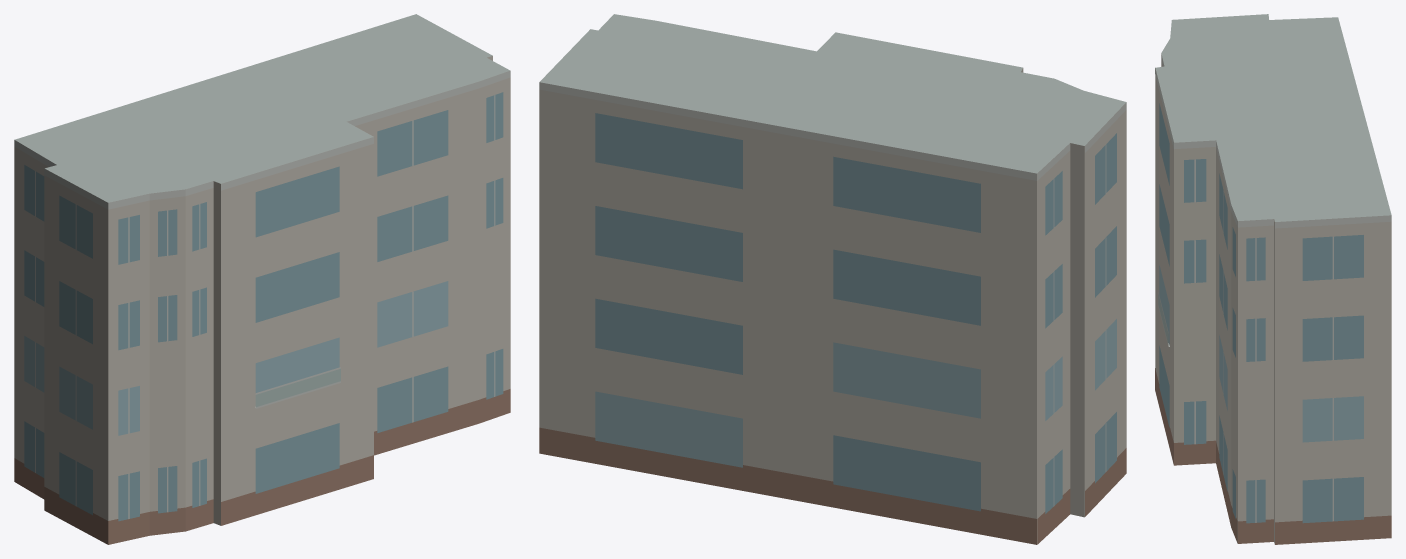
The model's file is survey-upis-32460687.glb.
3 renders of one model, left to right at view 1: azimuth 30°, elevation 25°; view 2: azimuth 150°, elevation 25°; view 3: azimuth 270°, elevation 25°, orthographic. The views are drawn at different scales.
Visible parts, largest first — view 1: survey-upis-32460687.tmp; view 2: survey-upis-32460687.tmp; view 3: survey-upis-32460687.tmp.
Part boxes in pixels (x1,y1,x2,y2): survey-upis-32460687.tmp: (14,14,510,544); survey-upis-32460687.tmp: (539,14,1126,544); survey-upis-32460687.tmp: (1155,14,1391,544).
Bounding box in the file's own units: 16.88 × 12.2 × 8.11.
